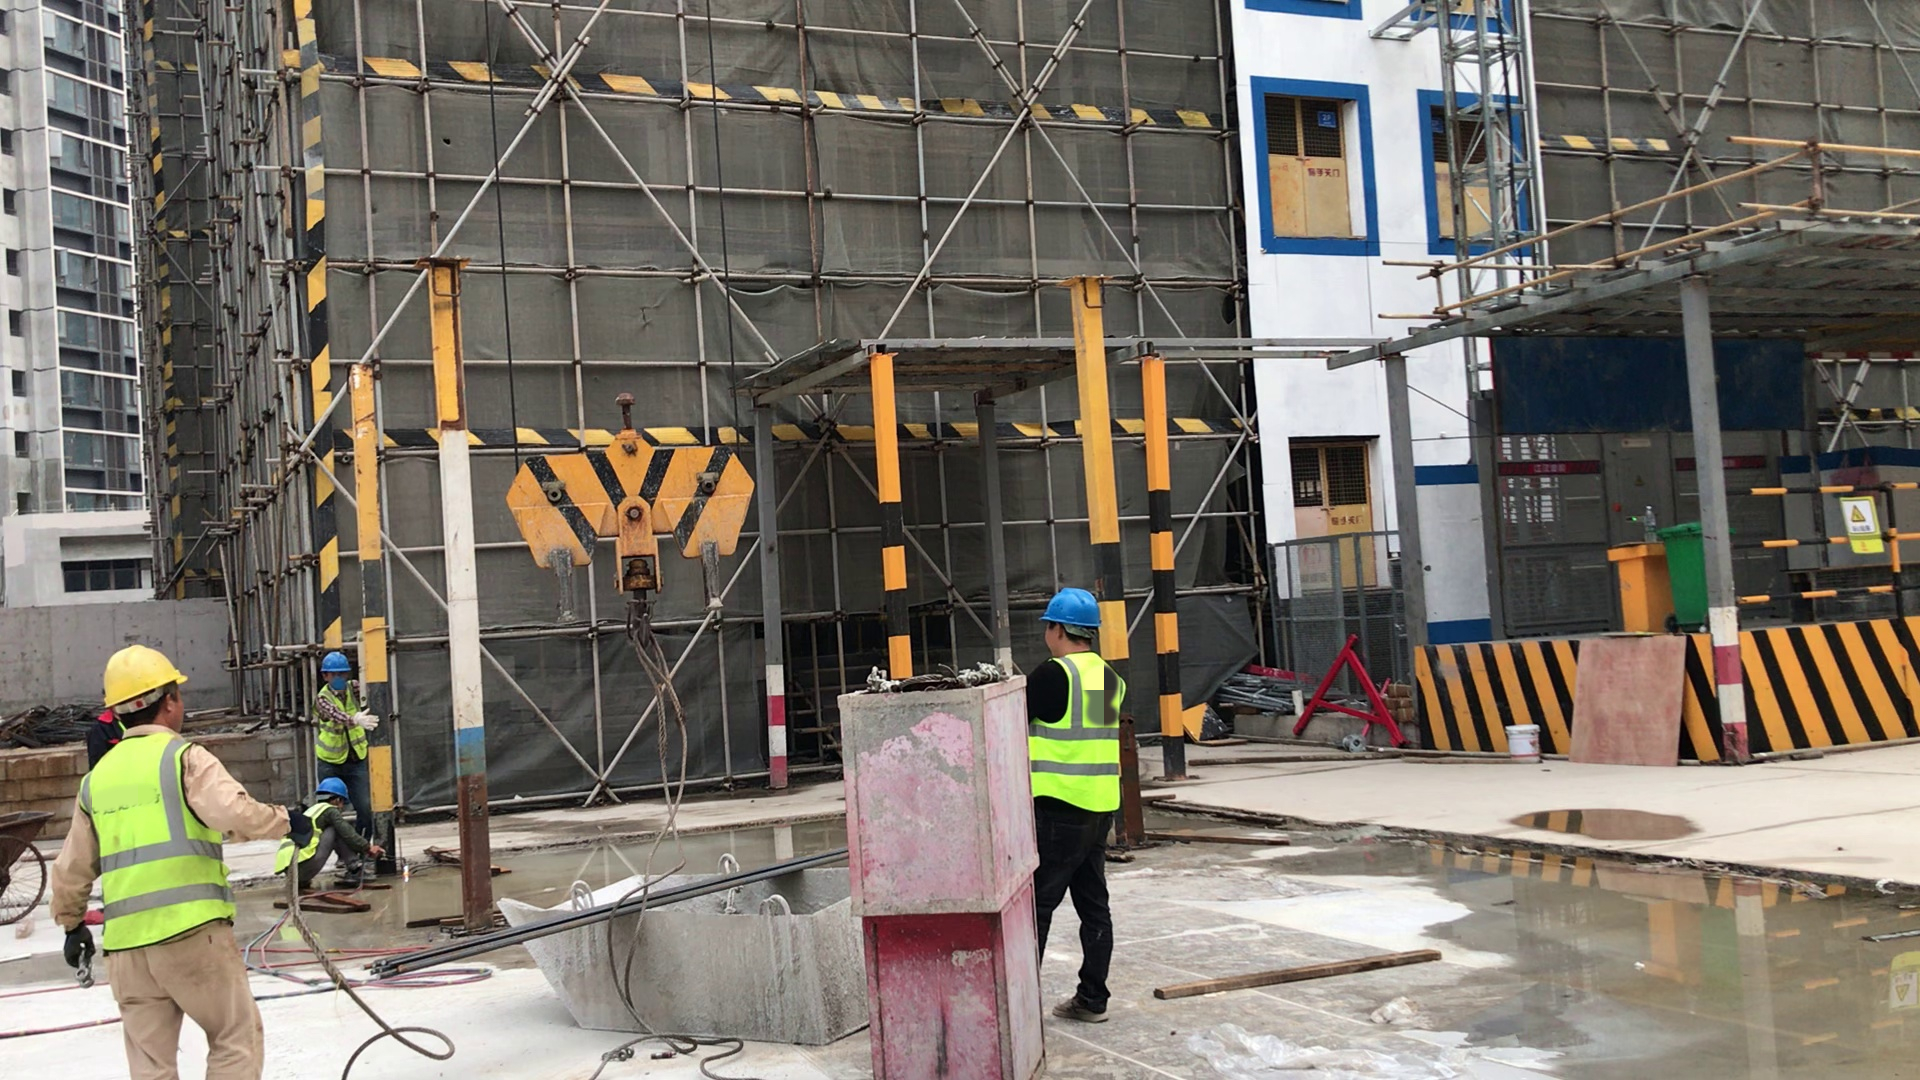fence: (1725, 478, 1920, 613)
handcart: (2, 799, 57, 942)
helmet: (92, 641, 194, 699), (1040, 574, 1112, 630), (315, 642, 365, 677), (312, 772, 361, 803)
hook: (414, 343, 853, 659)
hopper: (496, 845, 873, 1057)
person: (51, 649, 357, 1080), (1006, 583, 1163, 1037), (305, 651, 415, 838), (293, 779, 386, 900)
rebar: (358, 845, 850, 977)
slogan: (1841, 496, 1894, 564)
vest: (65, 734, 242, 961), (1032, 654, 1138, 834), (308, 680, 375, 768), (278, 789, 327, 889)
